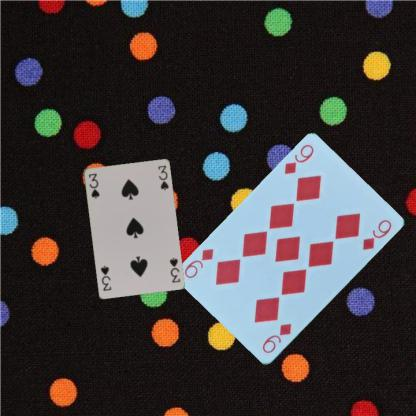3s: (167, 254, 181, 284), (86, 170, 100, 199)
9d: (281, 141, 315, 176), (259, 320, 293, 354)
